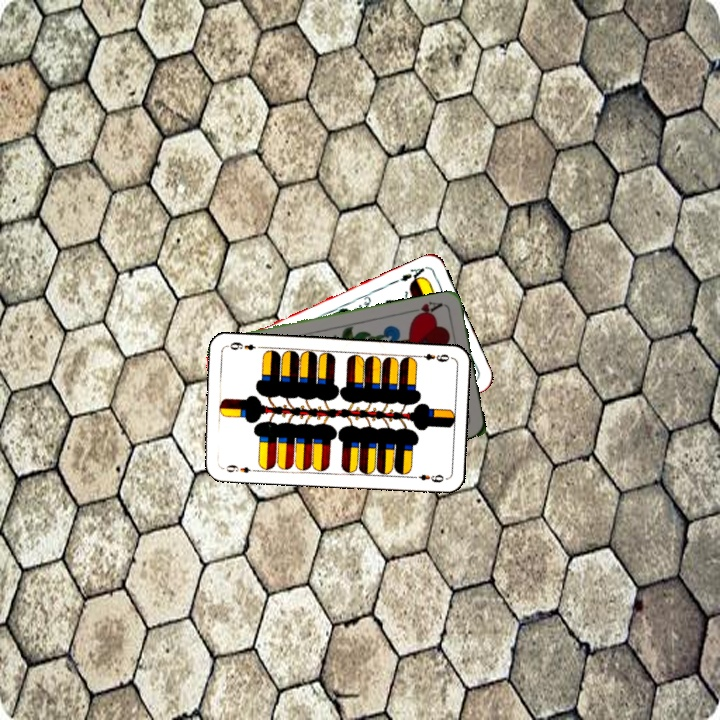E9: (219, 460, 259, 475), (413, 350, 452, 364)
EA: (396, 263, 429, 286)
HA: (406, 297, 445, 321)
